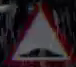Speed Breaker ahead: (5, 1, 71, 64)
